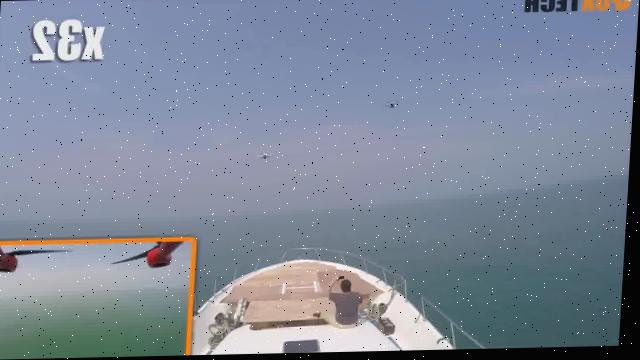drone: (376, 97, 408, 117), (258, 142, 275, 164)
